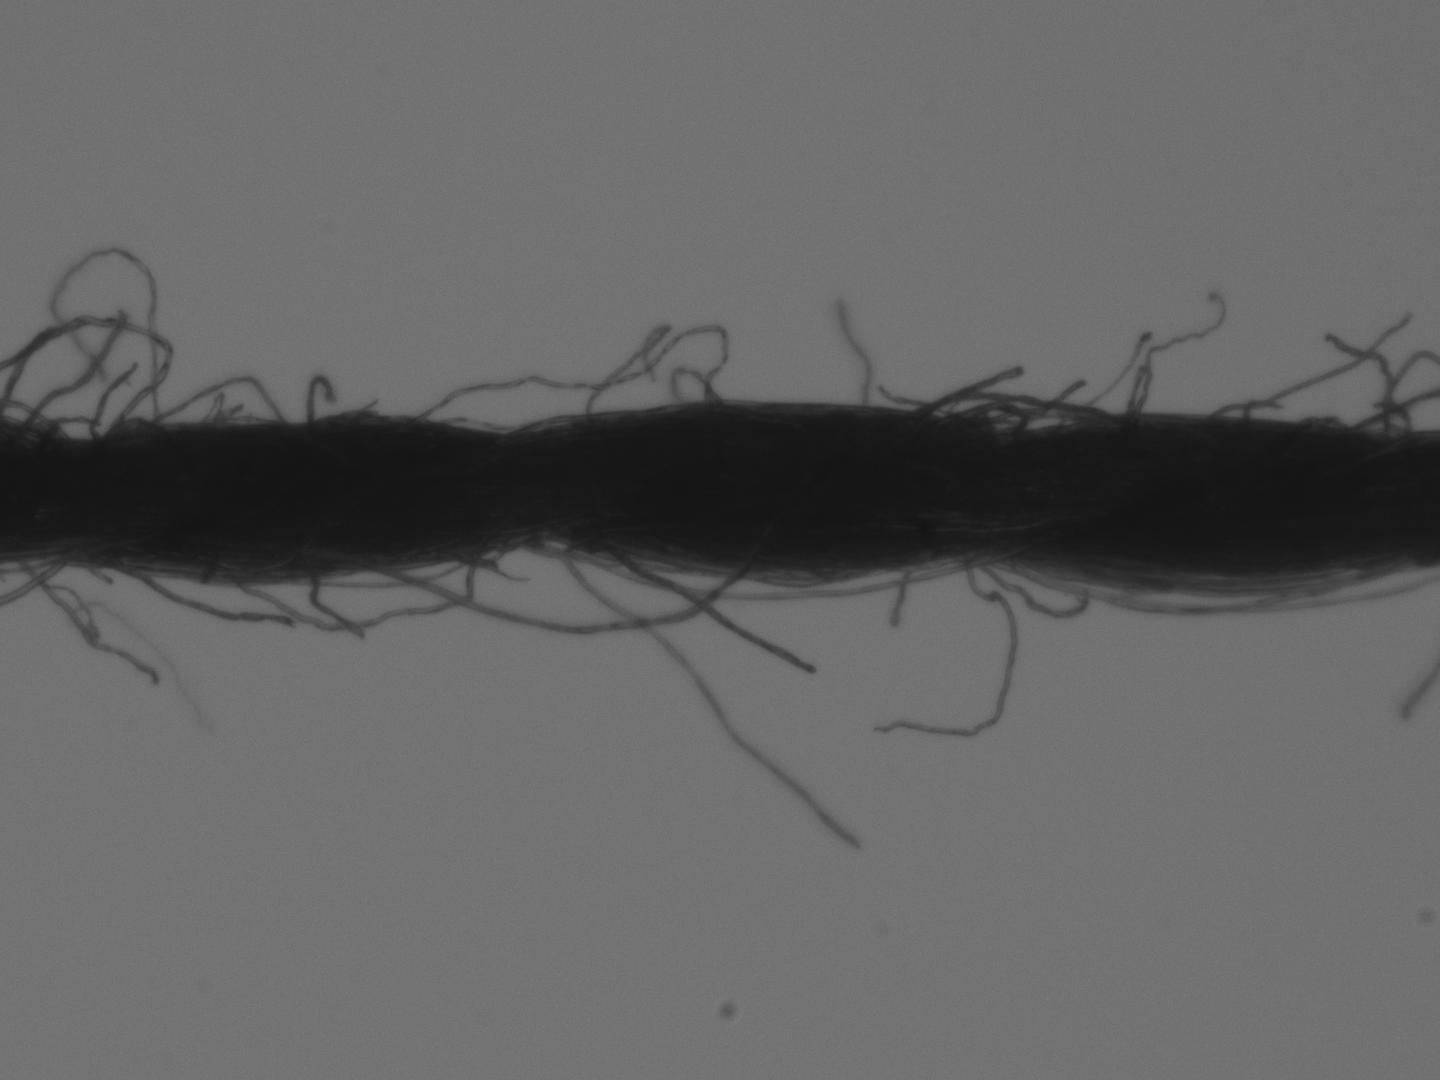loop_fiber: (389, 537, 751, 638), (410, 323, 730, 430), (998, 559, 1397, 613), (226, 549, 481, 632), (139, 371, 285, 429), (958, 393, 1121, 430), (297, 559, 455, 589), (915, 391, 1033, 422)
protruding_fiber: (558, 545, 862, 859), (609, 541, 824, 680), (1218, 307, 1416, 417), (112, 559, 293, 627), (303, 366, 342, 423), (884, 562, 914, 632)
